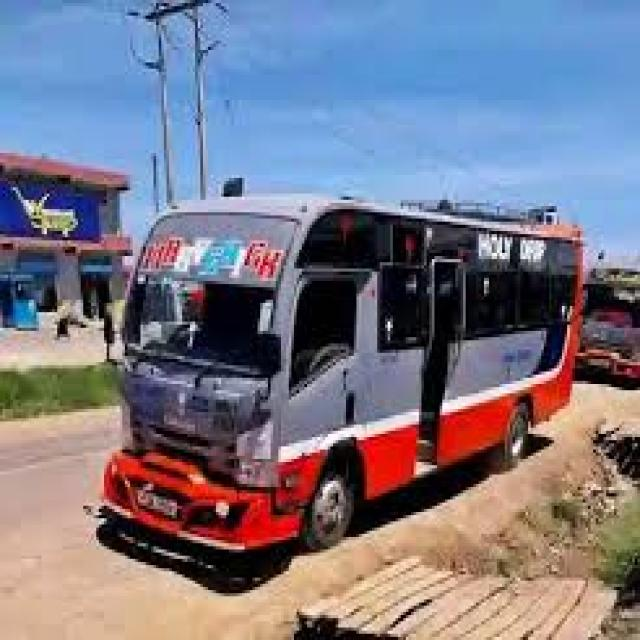bus: (40, 97, 600, 595)
